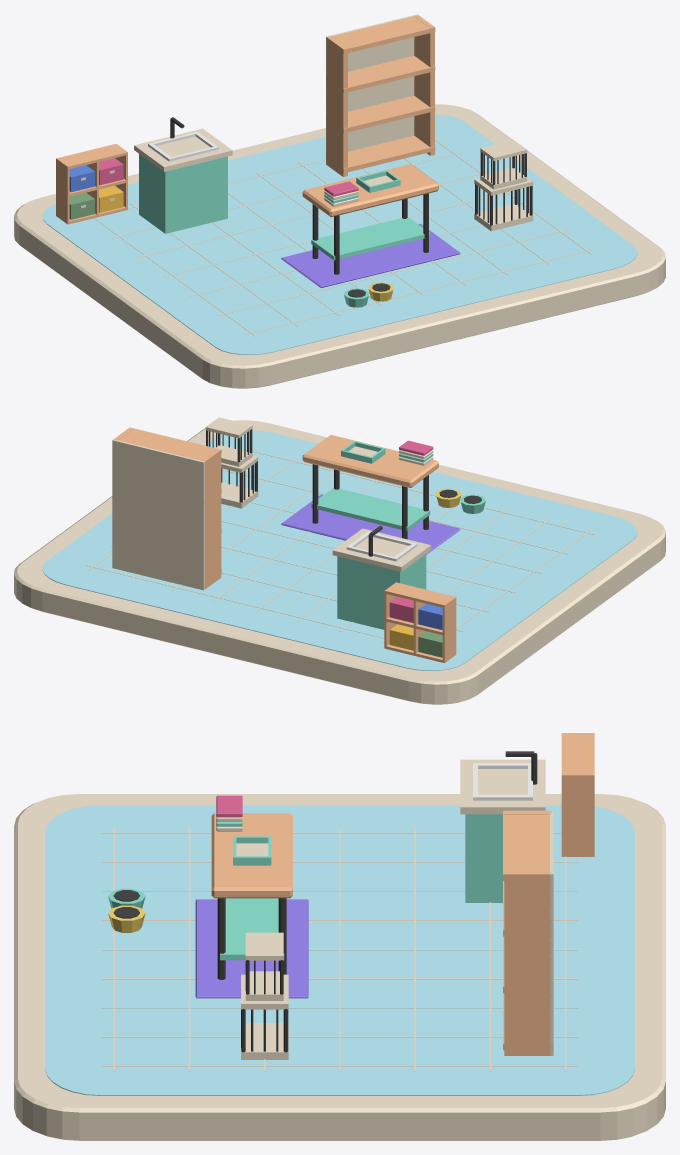
The model's file is room.fbx.
The picture shows the model from 3 angles, top to bottom: view 1: azimuth 30°, elevation 25°; view 2: azimuth 150°, elevation 25°; view 3: azimuth 270°, elevation 25°; orthographic projection. The views are drawn at different scales.
Visible parts, largest first — view 1: COM-02 Floor Surface, COM-01 Rounded Base Direct, Cabinet, Back, Rug, Worktop, Side, Lower shelf, Counter, Side.001, Shelf.003, Shelf.001 (+11 smaller); view 2: COM-02 Floor Surface, COM-01 Rounded Base Direct, Back, Cabinet, Worktop, Rug, Lower shelf, Side, Counter, Shelf.003, Cubbies shelf.002, Cubbies divider (+7 smaller); view 3: COM-02 Floor Surface, COM-01 Rounded Base Direct, Side.001, Rug, Worktop, Counter, Cabinet, Shelf.003, Cubbies divider.002, Lower shelf, Cubbies shelf.002, Floor (+14 smaller).
Boxes of the visible parts, bbox=[...] form: COM-02 Floor Surface: bbox=[42, 114, 637, 354]; COM-01 Rounded Base Direct: bbox=[14, 104, 665, 388]; Cabinet: bbox=[139, 154, 227, 233]; Back: bbox=[326, 14, 418, 164]; Rug: bbox=[281, 223, 460, 287]; Worktop: bbox=[302, 164, 438, 217]; Side: bbox=[326, 36, 347, 176]; Lower shelf: bbox=[311, 217, 430, 260]; Counter: bbox=[134, 128, 232, 171]; Side.001: bbox=[414, 15, 434, 155]; Shelf.003: bbox=[327, 16, 435, 53]; Shelf.001: bbox=[326, 95, 435, 133]; COM-02 Floor Surface: bbox=[42, 430, 637, 670]; COM-01 Rounded Base Direct: bbox=[14, 420, 665, 704]; Back: bbox=[112, 439, 204, 590]; Cabinet: bbox=[337, 554, 426, 629]; Worktop: bbox=[302, 435, 438, 487]; Rug: bbox=[281, 494, 460, 554]; Lower shelf: bbox=[311, 487, 430, 531]; Side: bbox=[200, 449, 221, 589]; Counter: bbox=[332, 528, 431, 571]; Shelf.003: bbox=[118, 427, 221, 463]; Cubbies shelf.002: bbox=[385, 582, 455, 607]; Cubbies divider: bbox=[442, 597, 456, 662]; COM-02 Floor Surface: bbox=[45, 805, 634, 1095]; COM-01 Rounded Base Direct: bbox=[14, 794, 665, 1140]; Side.001: bbox=[504, 871, 551, 1055]; Rug: bbox=[195, 899, 308, 998]; Worktop: bbox=[211, 813, 292, 898]; Counter: bbox=[460, 759, 545, 814]; Cabinet: bbox=[465, 814, 502, 902]; Shelf.003: bbox=[503, 811, 549, 880]; Cubbies divider.002: bbox=[561, 775, 594, 856]; Lower shelf: bbox=[220, 898, 284, 960]; Cubbies shelf.002: bbox=[561, 733, 594, 774]; Floor: bbox=[241, 1023, 288, 1059].
Bounding box in the file's own units: 600 × 190 × 520.
